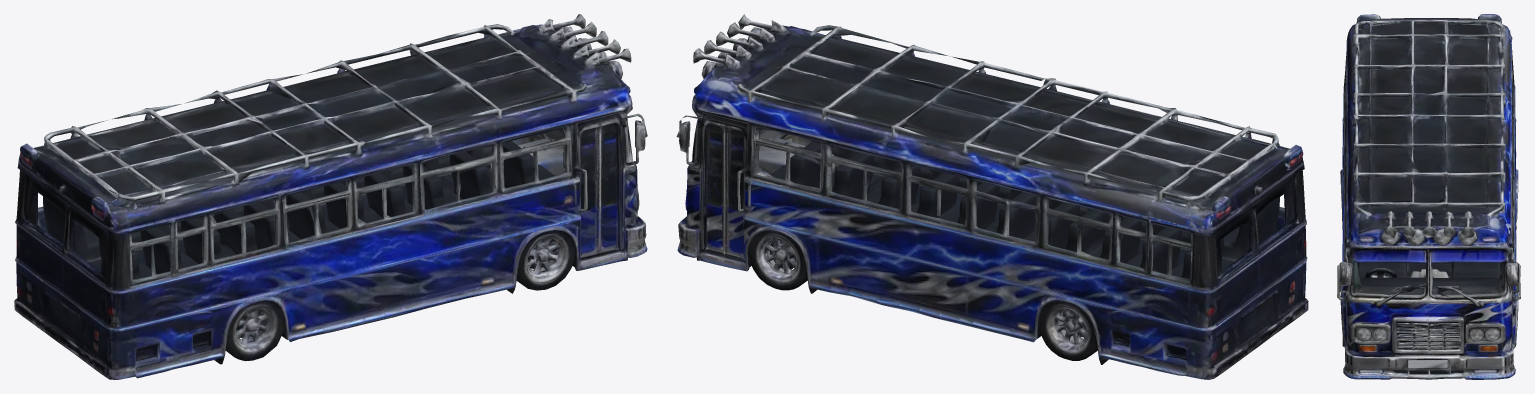
The model's file is leyland.glb.
3 renders of one model, left to right at view 1: azimuth 30°, elevation 25°; view 2: azimuth 150°, elevation 25°; view 3: azimuth 270°, elevation 25°, orthographic. The views are drawn at different scales.
Visible parts, largest first — view 1: tripo_node_a6cce581-2013-4235-90c8-87a85631530d; view 2: tripo_node_a6cce581-2013-4235-90c8-87a85631530d; view 3: tripo_node_a6cce581-2013-4235-90c8-87a85631530d.
Boxes of the visible parts, bbox=[...] form: tripo_node_a6cce581-2013-4235-90c8-87a85631530d: bbox=[14, 14, 647, 379]; tripo_node_a6cce581-2013-4235-90c8-87a85631530d: bbox=[676, 14, 1308, 379]; tripo_node_a6cce581-2013-4235-90c8-87a85631530d: bbox=[1337, 14, 1520, 379].
Size of the model in its own units: 1 by 0.3462 by 0.3468.
1 material, 1 textured.
